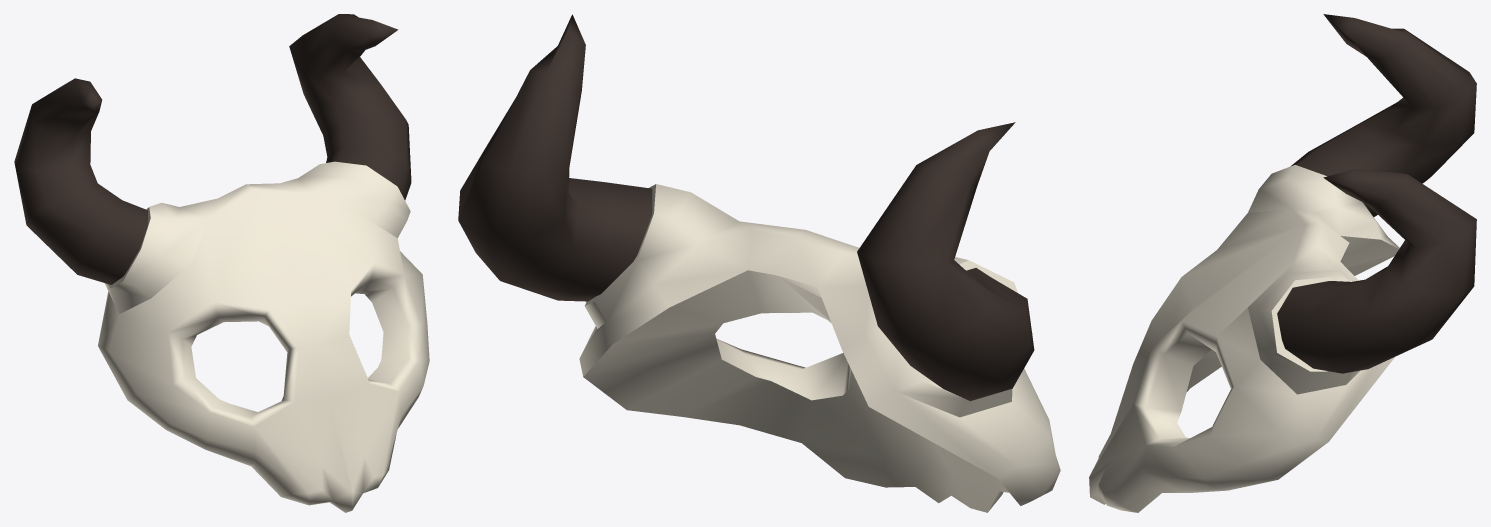
Rendered from Mask_3.fbx.
The picture shows the model from 3 angles, left to right: view 1: azimuth 30°, elevation 25°; view 2: azimuth 150°, elevation 25°; view 3: azimuth 270°, elevation 25°; orthographic projection. The views are drawn at different scales.
Parts seen in each view (by area): view 1: Mask_3; view 2: Mask_3; view 3: Mask_3.
Part boxes in pixels (bbox=[...]): Mask_3: bbox=[14, 14, 429, 512]; Mask_3: bbox=[458, 14, 1060, 512]; Mask_3: bbox=[1089, 14, 1476, 512].
Size of the model in its own units: 68.13 by 64.32 by 54.95.
